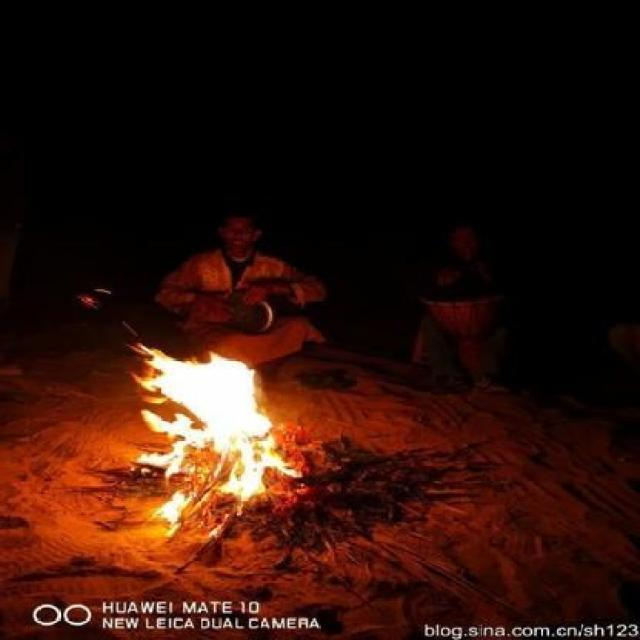Fire: (130, 338, 308, 554)
